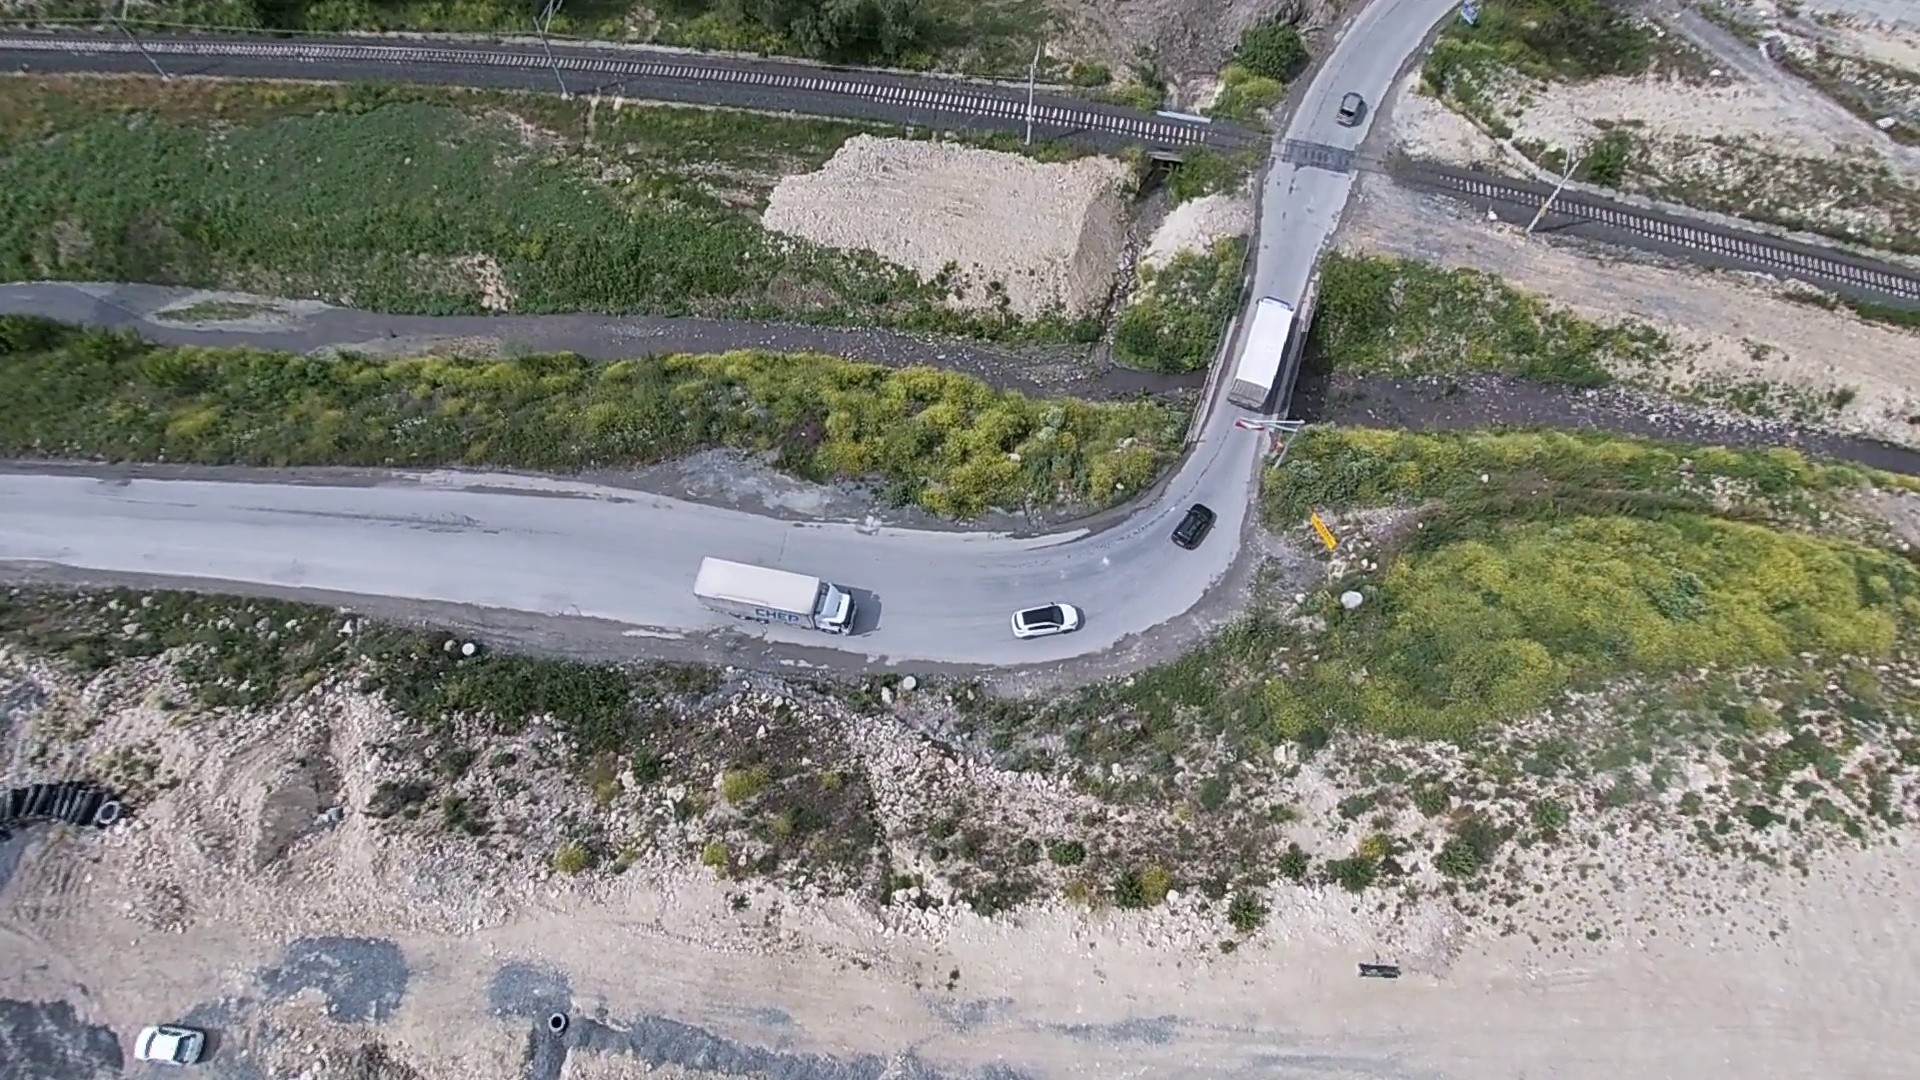arac: (687, 553, 865, 640), (1225, 284, 1296, 419), (125, 1021, 214, 1069), (1160, 502, 1215, 549), (1009, 605, 1087, 636), (1338, 94, 1367, 129)
